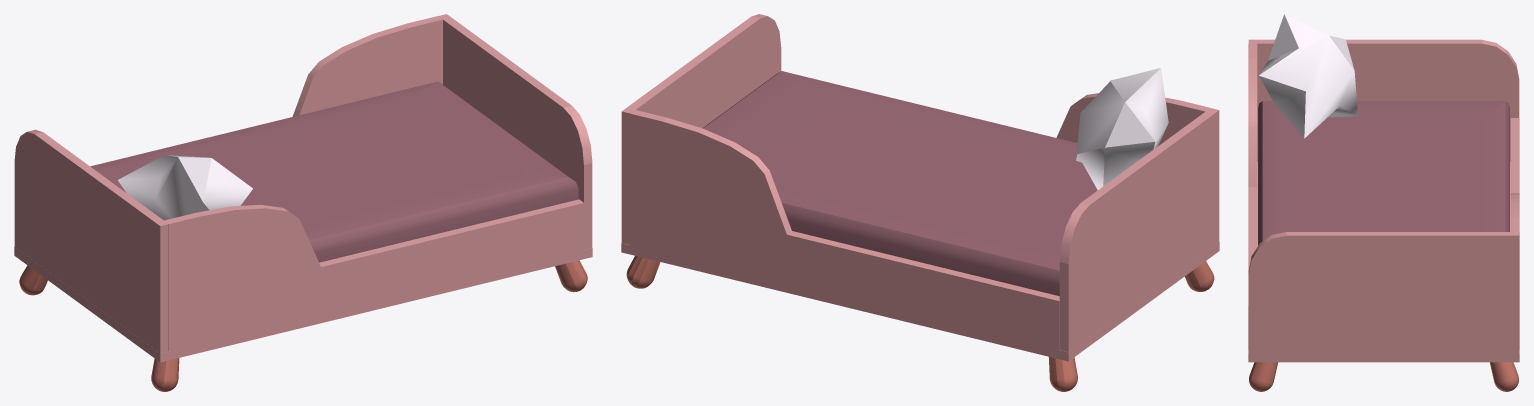
The model's file is Furn5_bed_color3.fbx.
The picture shows the model from 3 angles, left to right: view 1: azimuth 30°, elevation 25°; view 2: azimuth 150°, elevation 25°; view 3: azimuth 270°, elevation 25°; orthographic projection. The views are drawn at different scales.
Parts seen in each view (by area): view 1: Куб.218; view 2: Куб.218; view 3: Куб.218.
Boxes of the visible parts, box(x1,y1,x2,y2) form: Куб.218: box(14, 14, 592, 391); Куб.218: box(621, 14, 1219, 391); Куб.218: box(1248, 14, 1519, 391).
Bounding box in the file's own units: 390 × 188 × 228.
